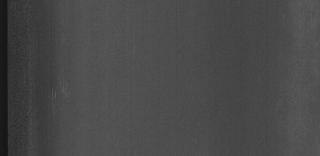silk spot: (42, 64, 74, 118)
